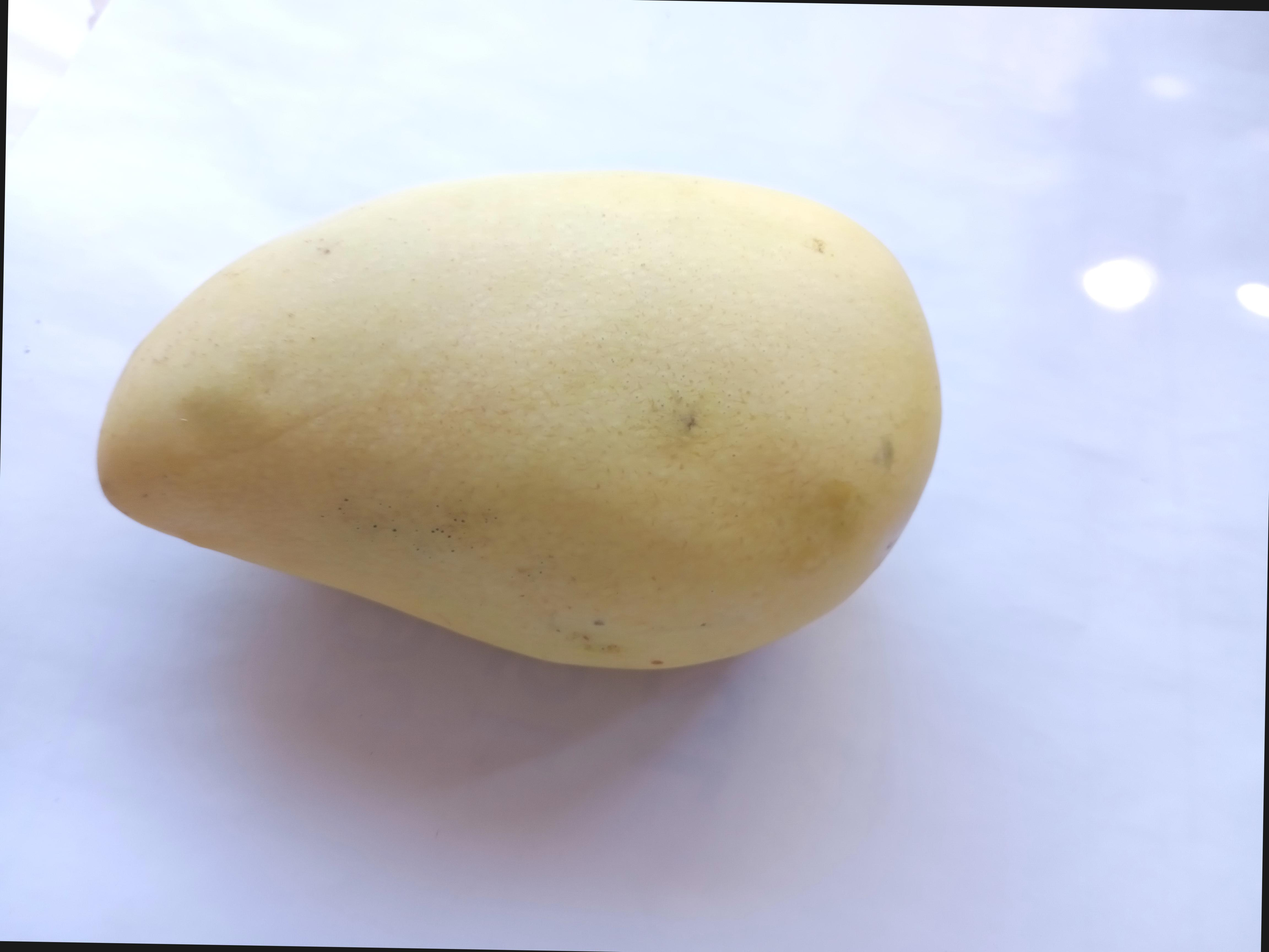Mango Ripe: (62, 75, 1030, 690)
